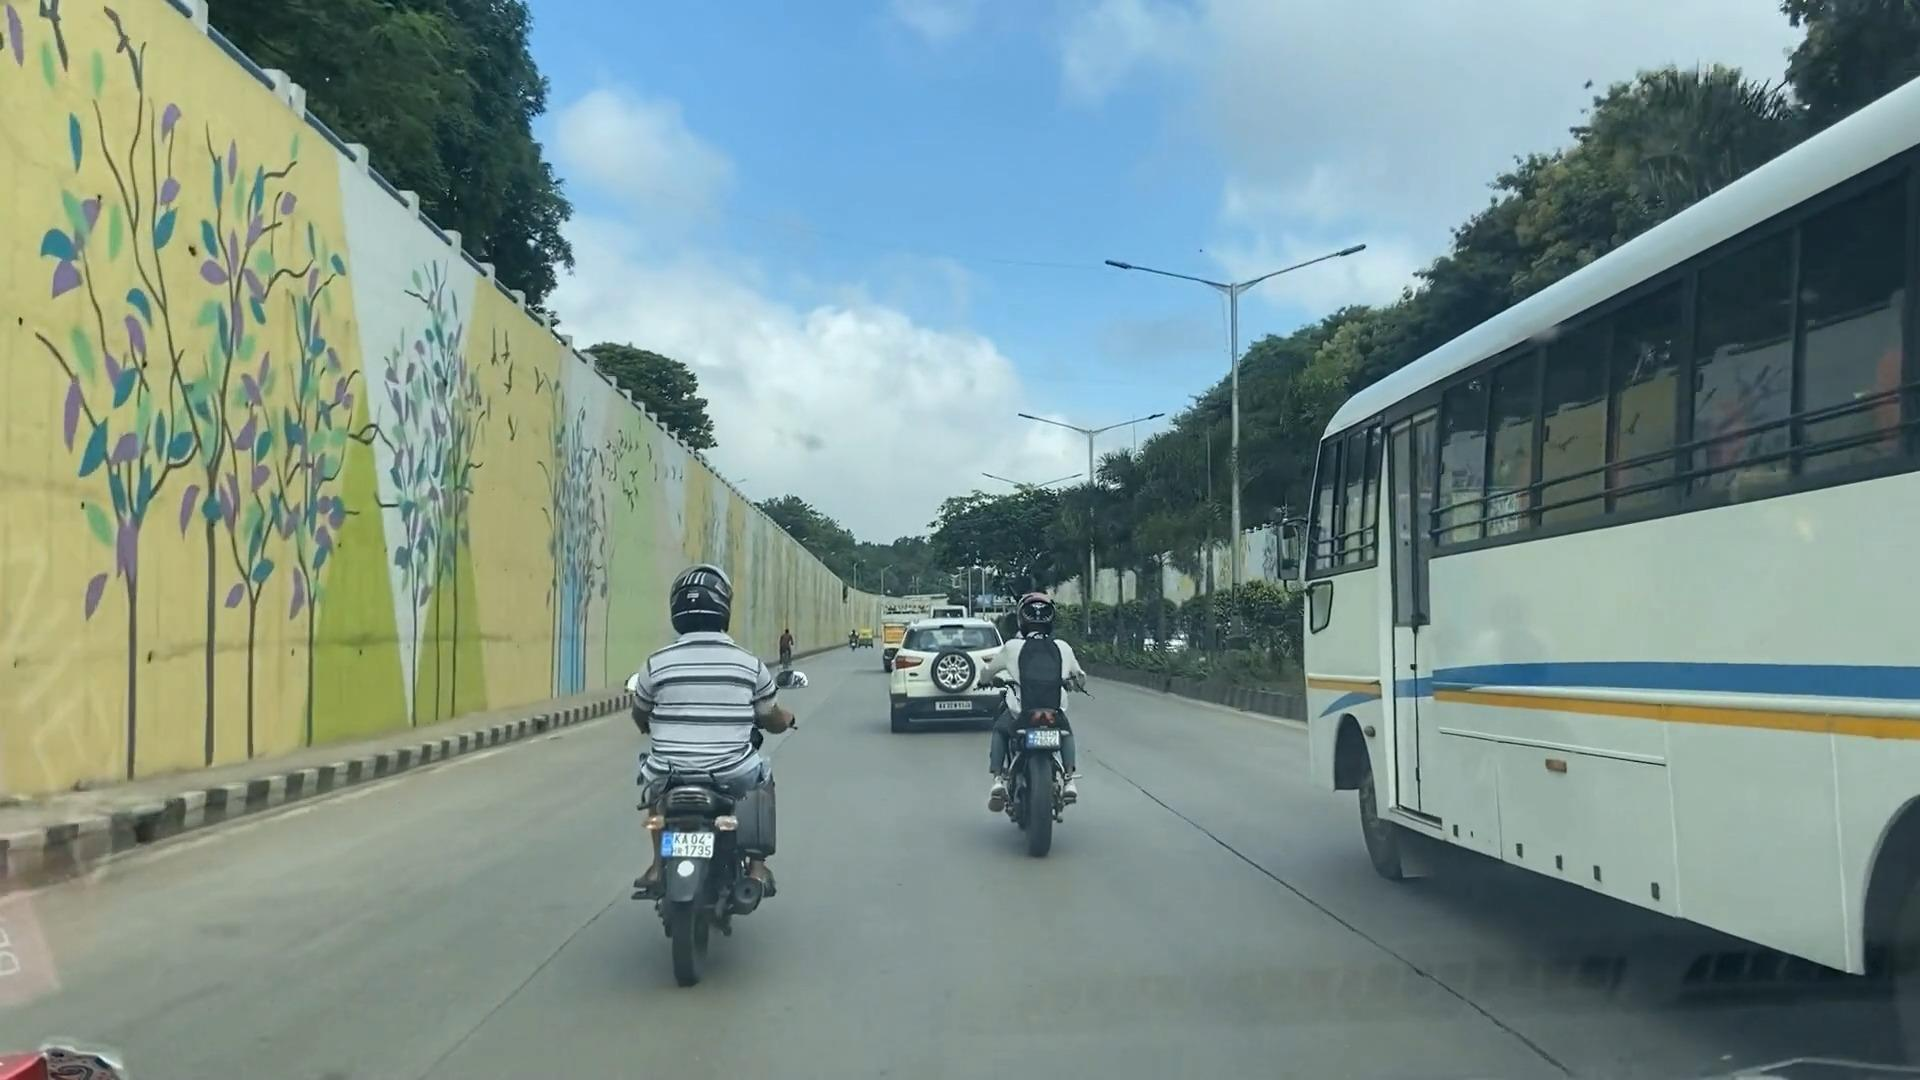LMV: (640, 578, 767, 947), (977, 599, 1089, 878), (890, 615, 1002, 735)
